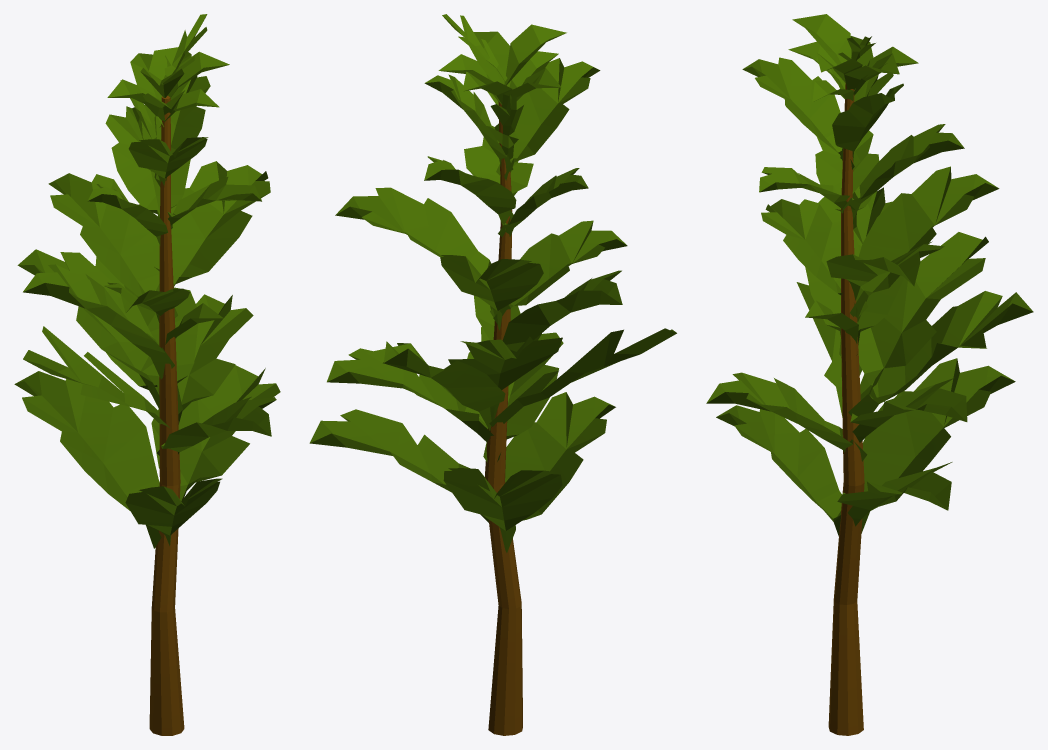
Rendered from tree_level_2.glb.
3 renders of one model, left to right at view 1: azimuth 30°, elevation 25°; view 2: azimuth 150°, elevation 25°; view 3: azimuth 270°, elevation 25°, orthographic. The views are drawn at different scales.
Visible parts, largest first — view 1: tree_level_2; view 2: tree_level_2; view 3: tree_level_2.
Boxes of the visible parts, x1,y1,x2,y2 form: tree_level_2: (14, 14, 280, 735); tree_level_2: (309, 14, 676, 735); tree_level_2: (706, 14, 1033, 735).
Size of the model in its own units: 1.25 by 2.77 by 1.15.
1 material, 1 textured.
